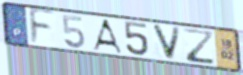5: (123, 20, 151, 57), (61, 13, 87, 50)
A: (91, 18, 124, 55)
F: (28, 7, 57, 47)
V: (150, 23, 183, 62)
Z: (181, 27, 217, 67)
